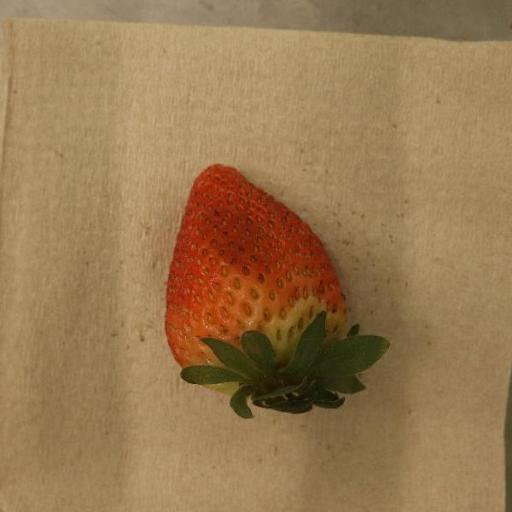Strawberry: (164, 164, 391, 421)
